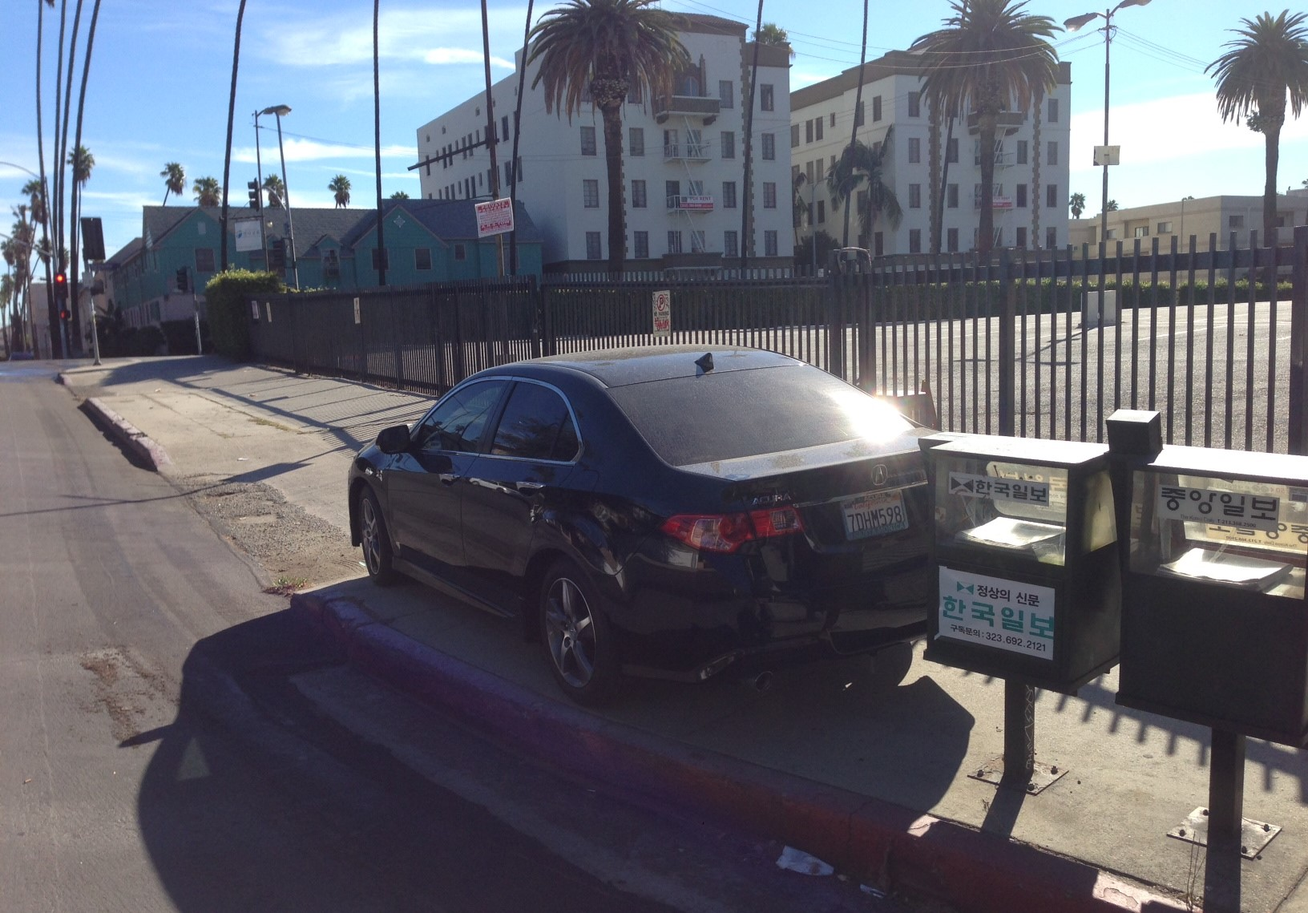Car: (343, 342, 977, 699)
